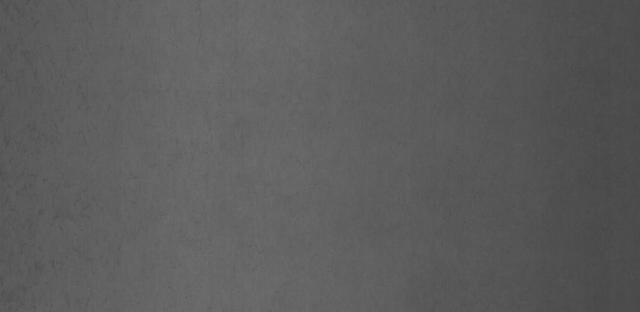silk_spot: (24, 156, 110, 278)
